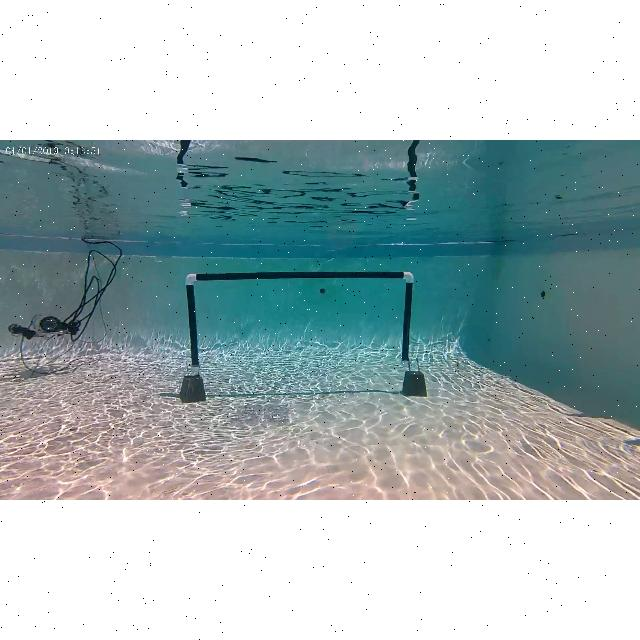prequal gate: (186, 270, 414, 376)
prequal gate leg l: (180, 268, 206, 380)
prequal gate leg r: (394, 268, 422, 382)
